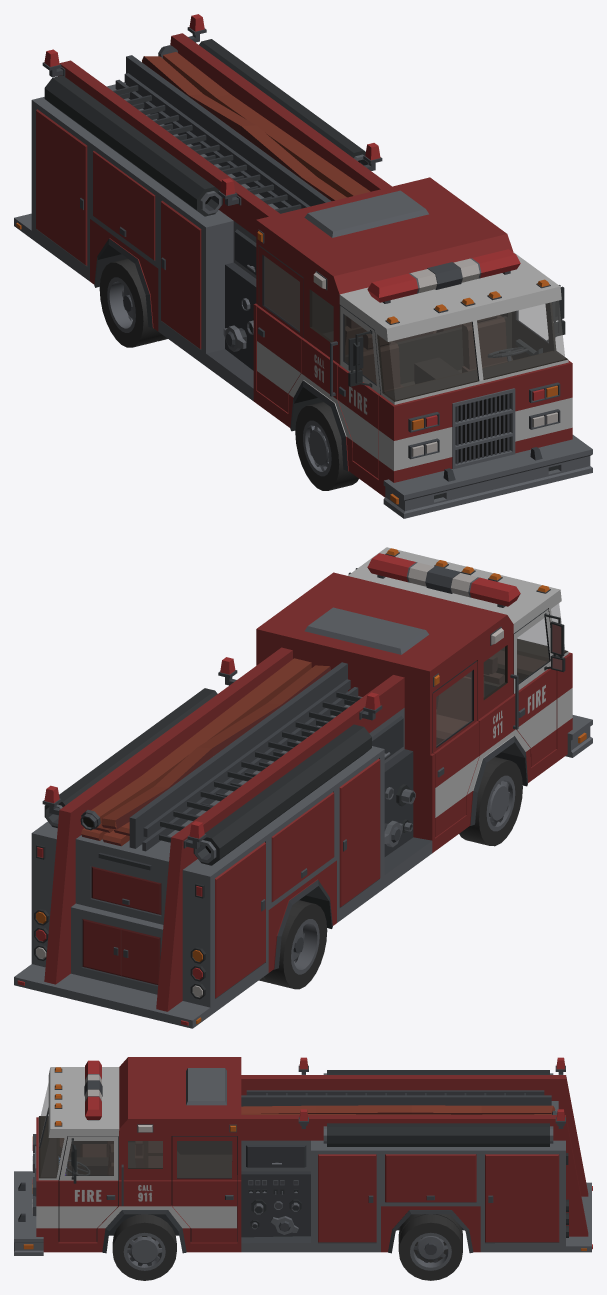
Rendered from 05_FIRE_TRUCK.glb.
3 renders of one model, top to bottom at view 1: azimuth 30°, elevation 25°; view 2: azimuth 150°, elevation 25°; view 3: azimuth 270°, elevation 25°, orthographic. The views are drawn at different scales.
Visible parts, largest first — view 1: FIRE TRUCK, WINDOWS, DOOR 1R, DOOR 2R, INTERIOR.001, WHEEL BIG.2R.001, WHEEL BIG.1R.001, WINDOWS DOOR 2R, DOOR 1L, WINDOWS DOOR 1R, WINDOWS DOOR 1L; view 2: FIRE TRUCK, DOOR 2R, DOOR 1R, WHEEL BIG.2R.001, WHEEL BIG.1R.001, INTERIOR.001, WINDOWS DOOR 2R, WINDOWS DOOR 1R, WINDOWS; view 3: FIRE TRUCK, DOOR 2L, DOOR 1L, WHEEL BIG.2L.001, WHEEL BIG.1L.001, WINDOWS, WINDOWS DOOR 2L, INTERIOR.001, WINDOWS DOOR 1L, DOOR 2R.
Boxes of the visible parts, <box> form: FIRE TRUCK: <box>14,14,592,518</box>; WINDOWS: <box>312,291,565,400</box>; DOOR 1R: <box>338,305,380,478</box>; DOOR 2R: <box>257,245,303,412</box>; INTERIOR.001: <box>345,315,552,392</box>; WHEEL BIG.2R.001: <box>99,258,167,347</box>; WHEEL BIG.1R.001: <box>295,401,358,490</box>; WINDOWS DOOR 2R: <box>264,256,299,330</box>; DOOR 1L: <box>512,285,565,360</box>; WINDOWS DOOR 1R: <box>344,315,376,383</box>; WINDOWS DOOR 1L: <box>516,304,548,342</box>; FIRE TRUCK: <box>14,547,592,1028</box>; DOOR 2R: <box>432,660,479,837</box>; DOOR 1R: <box>513,609,565,766</box>; WHEEL BIG.2R.001: <box>259,900,327,989</box>; WHEEL BIG.1R.001: <box>459,757,522,846</box>; INTERIOR.001: <box>436,647,549,745</box>; WINDOWS DOOR 2R: <box>436,671,471,745</box>; WINDOWS DOOR 1R: <box>517,618,549,682</box>; WINDOWS: <box>484,603,565,696</box>; FIRE TRUCK: <box>14,1057,592,1255</box>; DOOR 2L: <box>171,1136,237,1242</box>; DOOR 1L: <box>58,1136,118,1242</box>; WHEEL BIG.2L.001: <box>398,1214,462,1280</box>; WHEEL BIG.1L.001: <box>112,1214,176,1280</box>; WINDOWS: <box>40,1083,162,1177</box>; WINDOWS DOOR 2L: <box>177,1141,231,1177</box>; INTERIOR.001: <box>56,1138,162,1175</box>; WINDOWS DOOR 1L: <box>65,1141,113,1175</box>; DOOR 2R: <box>177,1141,232,1154</box>.
Size of the model in its own units: 2.98 by 2.96 by 9.49.
Materials: 2 (2 with a texture image).
